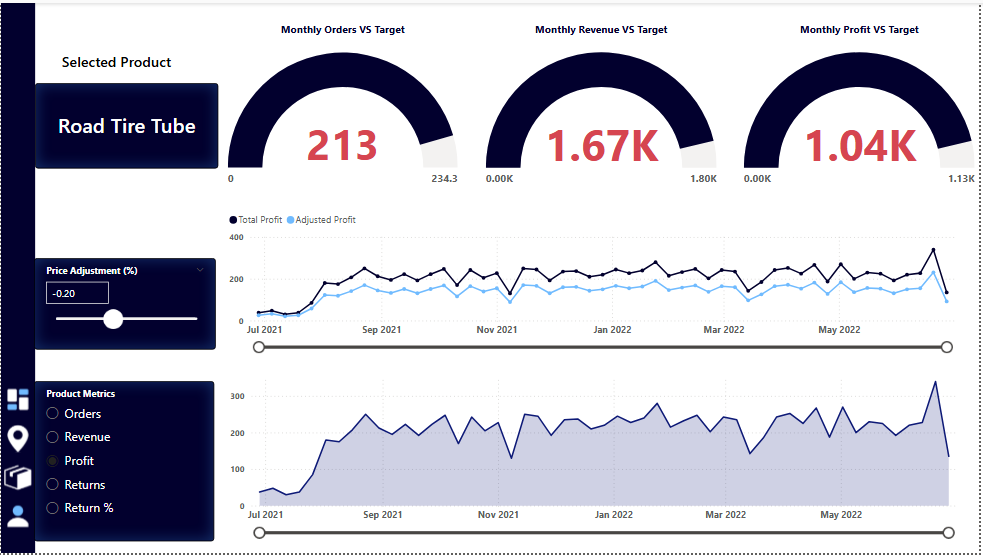

What the dashboard file says about the page in this screenshot:
{"tool":"powerbi","page":{"name":"Product Detail","canvas":[1280,720],"ordinal":2},"visuals":[{"type":"shape","box":[0,0,45,720],"z":0},{"type":"actionButton","box":[0,542.4,44.3,57.1],"z":0,"group":"g1"},{"type":"gauge","title":"Monthly Revenue VS Target","fields":{"MaxValue":["Measure Table.Revenue Target"],"Y":["Measure Table.Total Revenue"]},"box":[629.2,24.5,312.5,240.5],"z":1000},{"type":"actionButton","box":[0,491.4,44.3,57.1],"z":1000,"group":"g1"},{"type":"gauge","title":"Monthly Profit VS Target","fields":{"MaxValue":["Measure Table.Profit Target"],"Y":["Measure Table.Total Profit"]},"box":[967.5,24.5,312.5,240.5],"z":2000},{"type":"actionButton","box":[0,644.3,44.3,57.1],"z":2000,"group":"g1"},{"type":"gauge","title":"Monthly Orders VS Target","fields":{"MaxValue":["Measure Table.Order Target"],"Y":["Measure Table.Total Orders"]},"box":[292.3,24.5,311,240.5],"z":3000},{"type":"actionButton","box":[0,593.3,44.3,57.1],"z":3000,"group":"g1"},{"type":"lineChart","title":"Profit Trending","fields":{"Category":["Calendar Lookup.Date Hierarchy.Start of Year","Calendar Lookup.Date Hierarchy.Start of Month","Calendar Lookup.Date Hierarchy.Start of Week","Calendar Lookup.Date Hierarchy.Date"],"Y":["Measure Table.Total Profit","Measure Table.Adjusted Profit"]},"box":[293.8,265,977.8,197.3],"z":4000},{"type":"areaChart","title":"Returns Trending","fields":{"Category":["Calendar Lookup.Date Hierarchy.Start of Year","Calendar Lookup.Date Hierarchy.Start of Month","Calendar Lookup.Date Hierarchy.Start of Week","Calendar Lookup.Date Hierarchy.Date"],"Y":["Measure Table.Total Profit"]},"box":[295.2,476.6,979.2,227.5],"z":5000},{"type":"card","fields":{"Values":["Min(Product Lookup.ProductName)"]},"box":[44.6,105.1,240.5,112.3],"z":6000},{"type":"textbox","box":[74.9,59,180,46.1],"z":7000},{"type":"group","id":"g1","title":"Navigation Buttons","box":[0,491.4,44.3,210],"z":8000},{"type":"slicer","fields":{"Values":["Price Adjustment (%).Price Adjustment (%)"]},"box":[43.2,334.1,237.6,119.5],"z":9000},{"type":"slicer","fields":{"Values":["Product Metrics Selection.Product Metrics Selection"]},"box":[43.2,495.4,236.2,210.2],"z":10000}]}

Visuals, with their boxes on the page's 1280x720 design canvas (x1, y1, x2, y2). These are canvas units, not pixel positions in the 983x557 screenshot, which may show the page scaled, cropped or inside an application window:
shape: l=0, t=0, r=45, b=720
actionButton: l=0, t=542, r=44, b=600
"Monthly Revenue VS Target" gauge: l=629, t=24, r=942, b=265
actionButton: l=0, t=491, r=44, b=548
"Monthly Profit VS Target" gauge: l=968, t=24, r=1280, b=265
actionButton: l=0, t=644, r=44, b=701
"Monthly Orders VS Target" gauge: l=292, t=24, r=603, b=265
actionButton: l=0, t=593, r=44, b=650
"Profit Trending" lineChart: l=294, t=265, r=1272, b=462
"Returns Trending" areaChart: l=295, t=477, r=1274, b=704
card - Min(Product Lookup.ProductName): l=45, t=105, r=285, b=217
textbox: l=75, t=59, r=255, b=105
"Navigation Buttons" group: l=0, t=491, r=44, b=701
slicer - Price Adjustment (%).Price Adjustment (%): l=43, t=334, r=281, b=454
slicer - Product Metrics Selection.Product Metrics Selection: l=43, t=495, r=279, b=706
